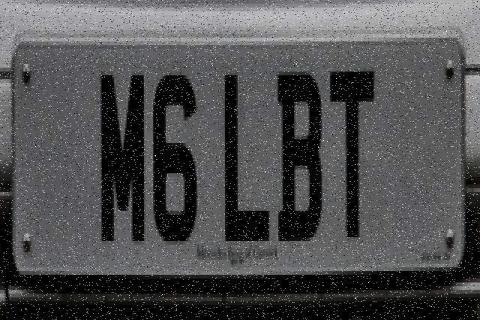LicensePlate: (9, 33, 470, 283)
